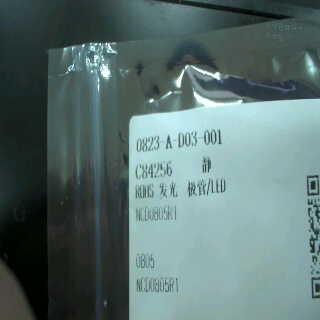LED: (154, 175, 238, 202)
